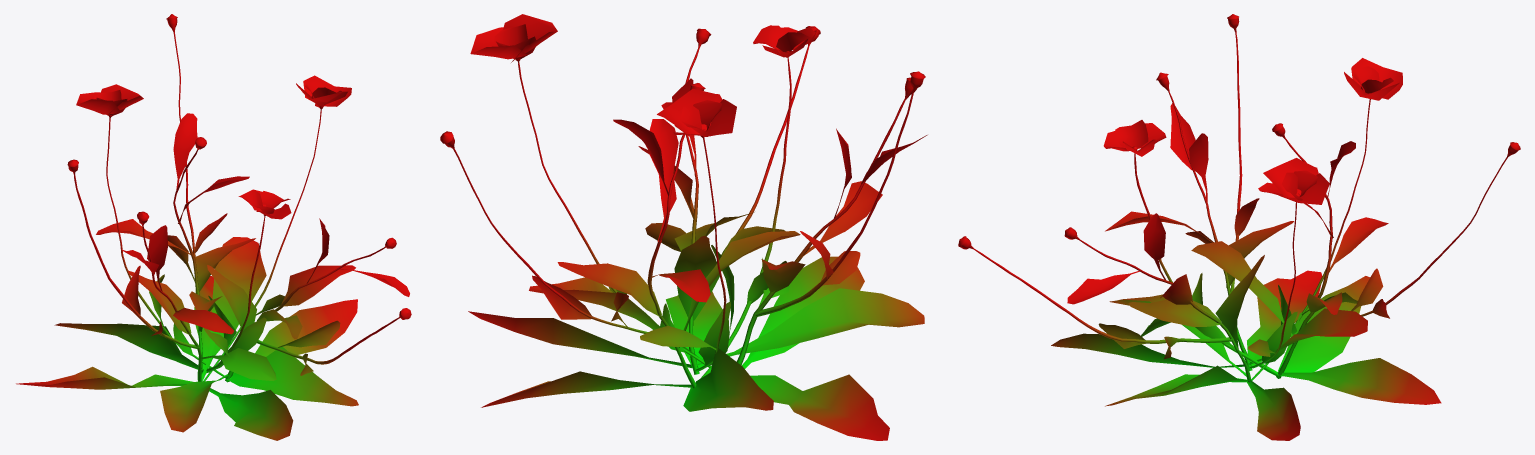
Rendered from plant_02.fbx.
3 views of the same model, side by side, from view 1: azimuth 30°, elevation 25°; view 2: azimuth 150°, elevation 25°; view 3: azimuth 270°, elevation 25° (orthographic). The views are drawn at different scales.
Visible parts, largest first — view 1: _2vne_Var4_LOD1; view 2: _2vne_Var4_LOD1; view 3: _2vne_Var4_LOD1.
Part boxes in pixels (box(x1,y1,x2,y2)): _2vne_Var4_LOD1: box(16, 14, 411, 440); _2vne_Var4_LOD1: box(440, 14, 927, 440); _2vne_Var4_LOD1: box(958, 14, 1520, 440).
Bounding box in the file's own units: 55.44 × 42.45 × 75.59.
